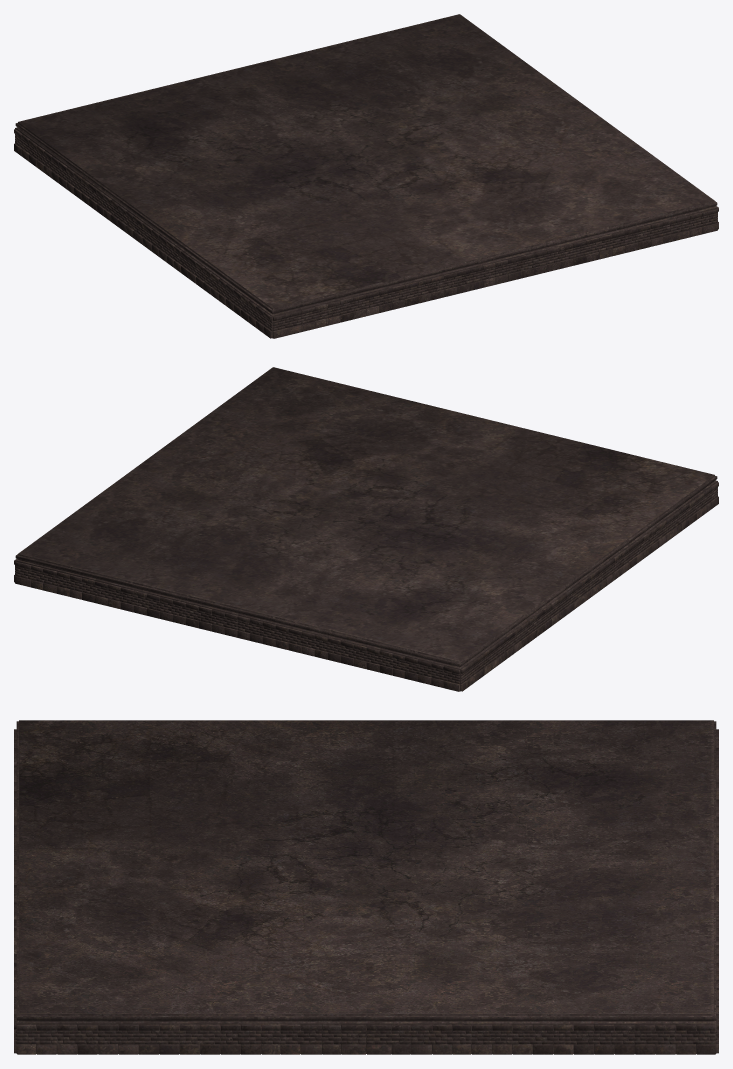
File: SK1 EXT BASE BIG.fbx
3 views of the same model, one above another, from view 1: azimuth 30°, elevation 25°; view 2: azimuth 150°, elevation 25°; view 3: azimuth 270°, elevation 25° (orthographic). The views are drawn at different scales.
Visible parts, largest first — view 1: SK1 EXT BASE BIG; view 2: SK1 EXT BASE BIG; view 3: SK1 EXT BASE BIG.
Boxes of the visible parts, x1,y1,x2,y2 form: SK1 EXT BASE BIG: [14, 14, 718, 338]; SK1 EXT BASE BIG: [14, 367, 718, 691]; SK1 EXT BASE BIG: [14, 720, 718, 1054].
Size of the model in its own units: 1646 by 101 by 1646.
